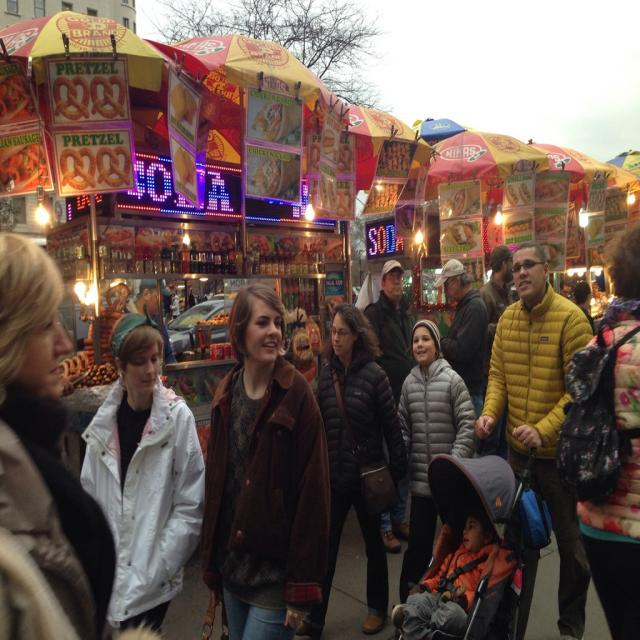body: (198, 276, 334, 639), (0, 233, 118, 639), (476, 239, 595, 639), (72, 306, 207, 639), (297, 302, 407, 640), (556, 223, 640, 639), (393, 319, 478, 606), (361, 257, 418, 554), (389, 509, 498, 640), (432, 258, 490, 422), (477, 242, 515, 460), (557, 276, 593, 316), (124, 276, 159, 316), (162, 282, 197, 321)
